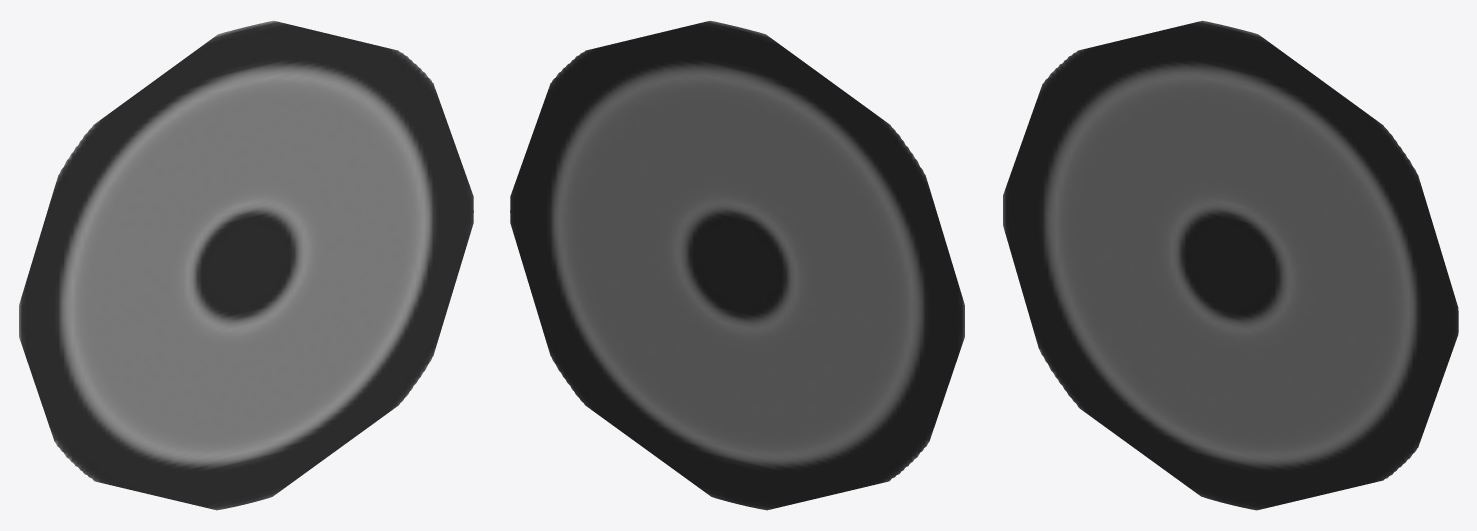
Rendered from obj_interactive_bearing_lod1.fbx.
3 renders of one model, left to right at view 1: azimuth 30°, elevation 25°; view 2: azimuth 150°, elevation 25°; view 3: azimuth 330°, elevation 25°, orthographic.
Visible parts, largest first — view 1: obj_interactive_bearing_lod1; view 2: obj_interactive_bearing_lod1; view 3: obj_interactive_bearing_lod1.
Boxes of the visible parts, x1=… form: obj_interactive_bearing_lod1: x1=19, y1=20, x2=473, y2=510; obj_interactive_bearing_lod1: x1=510, y1=20, x2=964, y2=510; obj_interactive_bearing_lod1: x1=1003, y1=20, x2=1458, y2=510.
Bounding box in the file's own units: 0.8814 × 0.9125 × 0.
Materials: 1 (1 with a texture image).
